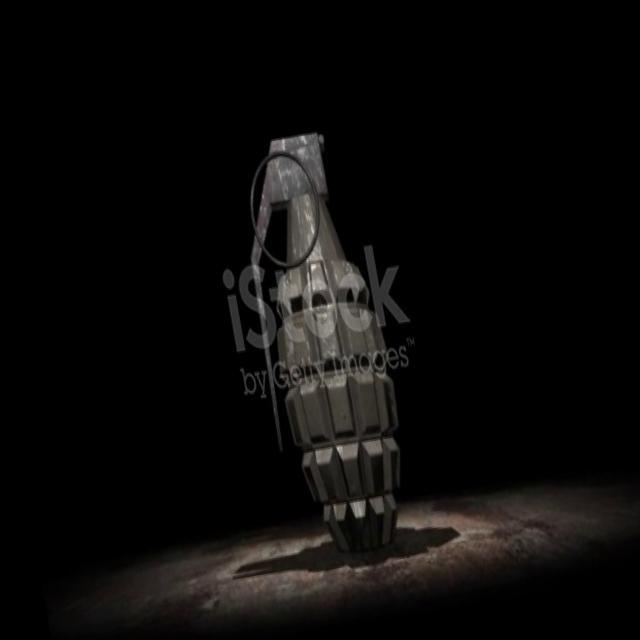grenade: (226, 116, 424, 564)
